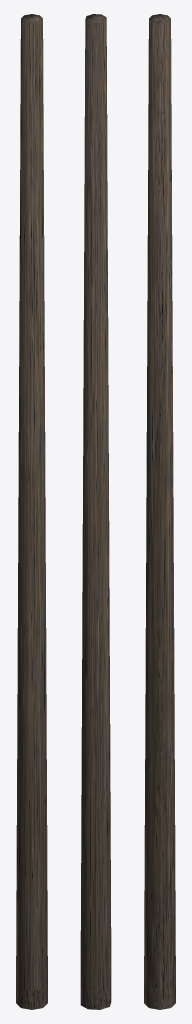
The model's file is pole_wood_a_lod_2.glb.
3 renders of one model, left to right at view 1: azimuth 90°, elevation 25°; view 2: azimuth 150°, elevation 25°; view 3: azimuth 270°, elevation 25°, orthographic.
Parts seen in each view (by area): view 1: pole_wood_a_lod_2; view 2: pole_wood_a_lod_2; view 3: pole_wood_a_lod_2.
Part boxes in pixels (x1,y1,x2,y2): pole_wood_a_lod_2: [16, 14, 47, 1009]; pole_wood_a_lod_2: [80, 14, 111, 1009]; pole_wood_a_lod_2: [144, 14, 175, 1009].
Size of the model in its own units: 0.3 by 10.2 by 0.3.
1 material, 1 textured.
